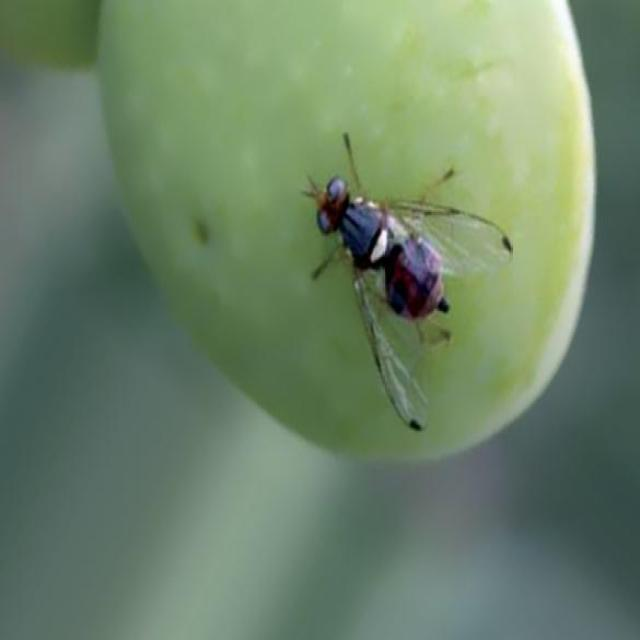Olive Fruit Fly: (98, 0, 594, 457)
